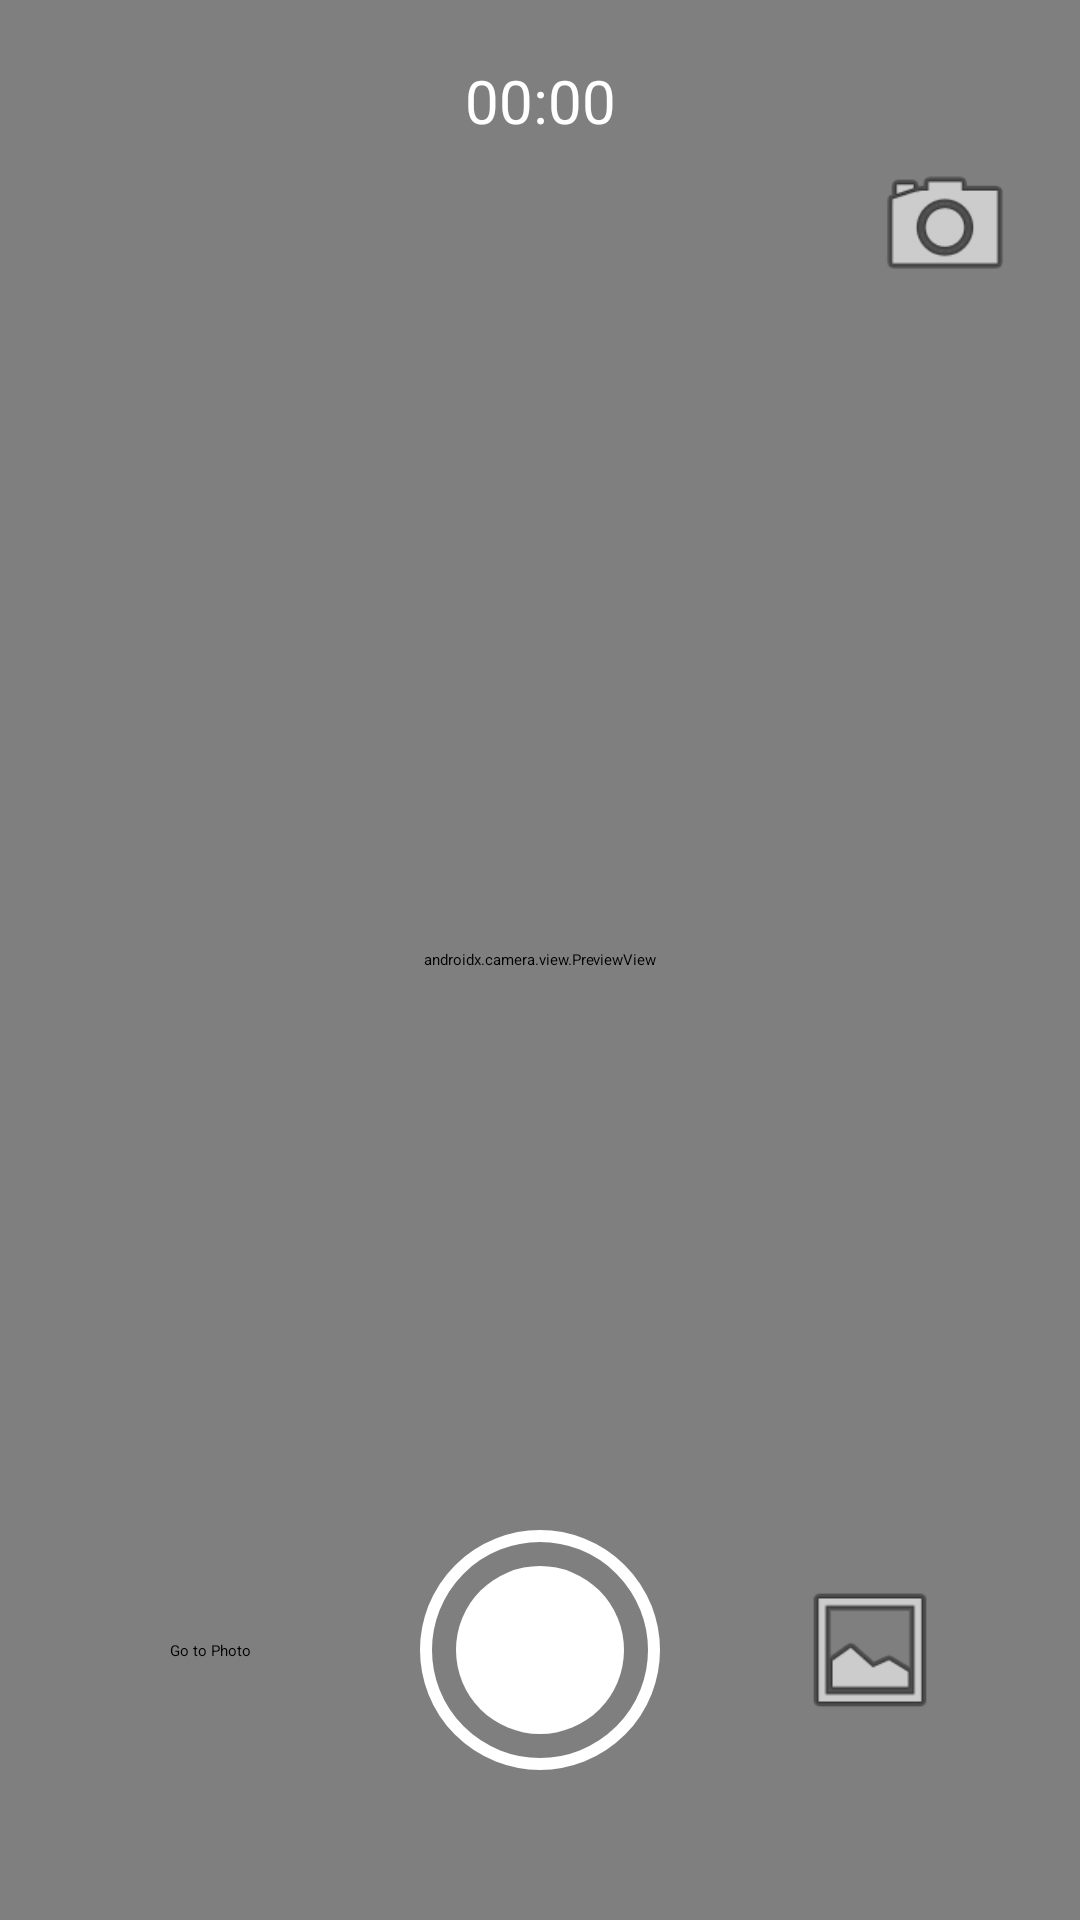

Named icons in this screenshot (1080 × 1920) and their bounding boxes, (x1, y1, x2, y2):
Gallery: (814, 1594, 926, 1706)
Record Button: (420, 1530, 660, 1770)
